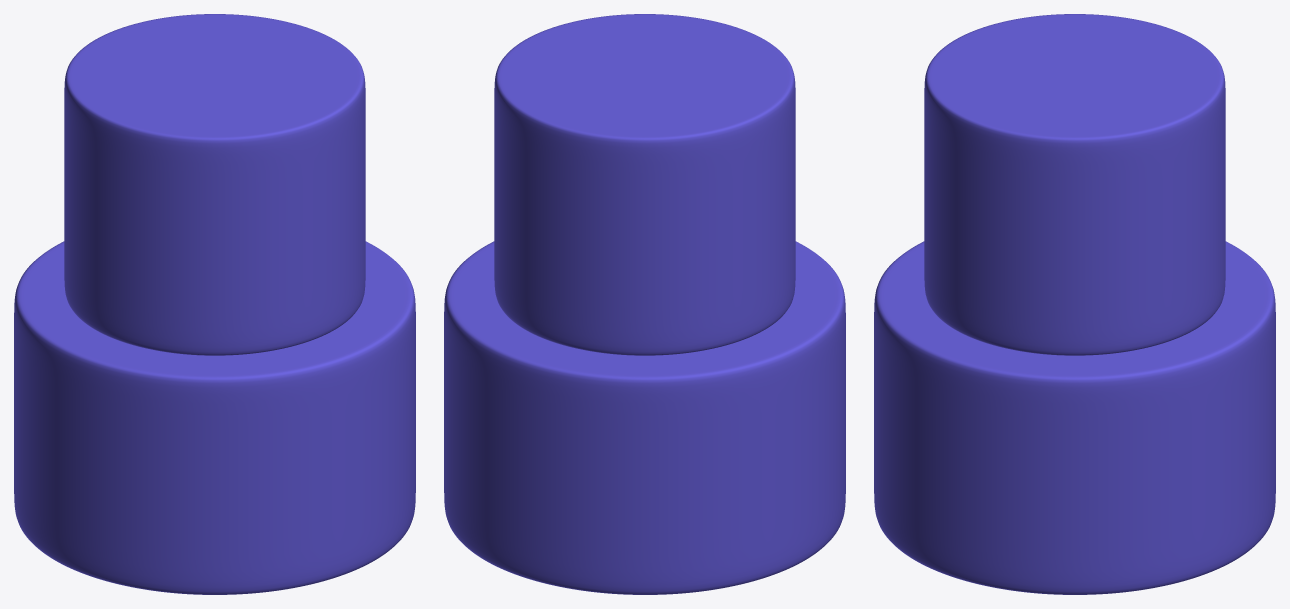
The model's file is Cake_Layer_2_Purple.glb.
3 views of the same model, side by side, from view 1: azimuth 30°, elevation 25°; view 2: azimuth 150°, elevation 25°; view 3: azimuth 270°, elevation 25° (orthographic).
Parts seen in each view (by area): view 1: Circle.001, Circle.002; view 2: Circle.001, Circle.002; view 3: Circle.001, Circle.002.
Part boxes in pixels (<box>): Circle.001: <box>14,241,415,594</box>; Circle.002: <box>64,14,365,355</box>; Circle.001: <box>444,241,845,594</box>; Circle.002: <box>494,14,795,355</box>; Circle.001: <box>874,241,1275,594</box>; Circle.002: <box>924,14,1225,355</box>.
Size of the model in its own units: 0.2 by 0.24 by 0.2.
